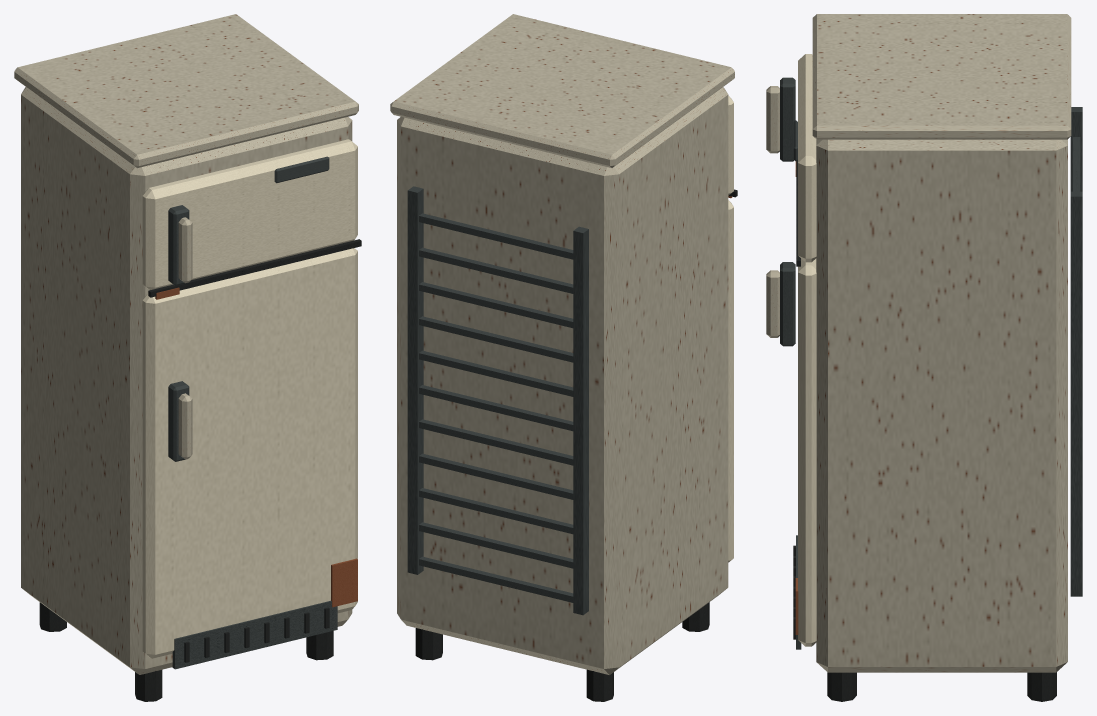
File: CompactRefrigerator.fbx
3 renders of one model, left to right at view 1: azimuth 30°, elevation 25°; view 2: azimuth 150°, elevation 25°; view 3: azimuth 270°, elevation 25°, orthographic. The views are drawn at different scales.
Visible parts, largest first — view 1: CompactRefrigerator; view 2: CompactRefrigerator; view 3: CompactRefrigerator.
Boxes of the visible parts, box(x1,y1,x2,y2) form: CompactRefrigerator: box(14, 14, 361, 701); CompactRefrigerator: box(390, 14, 737, 701); CompactRefrigerator: box(766, 14, 1082, 701).
Bounding box in the file's own units: 79 × 186 × 91.7.
Materials: 1 (1 with a texture image).
